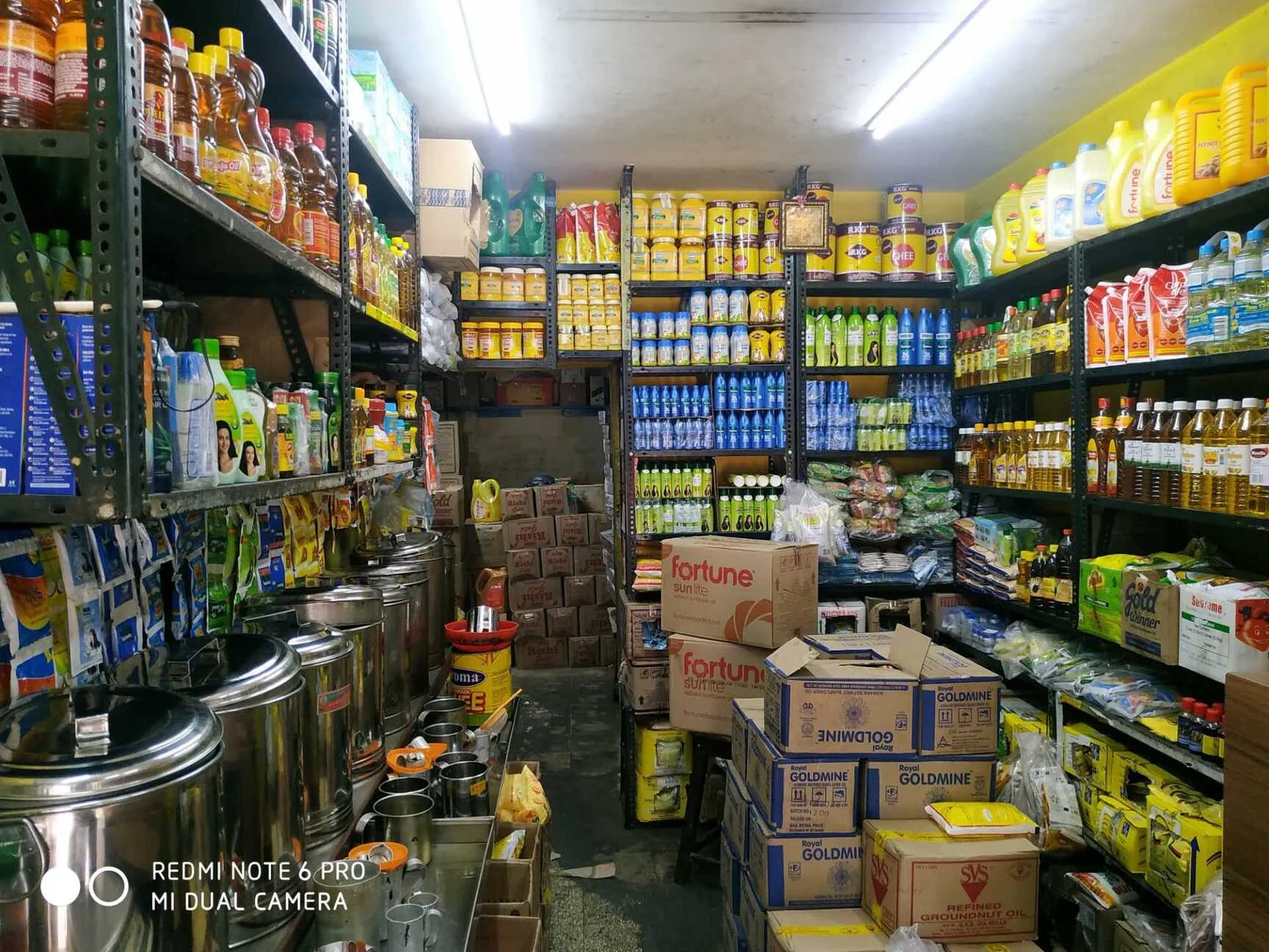parachute: (922, 57, 1269, 302)
